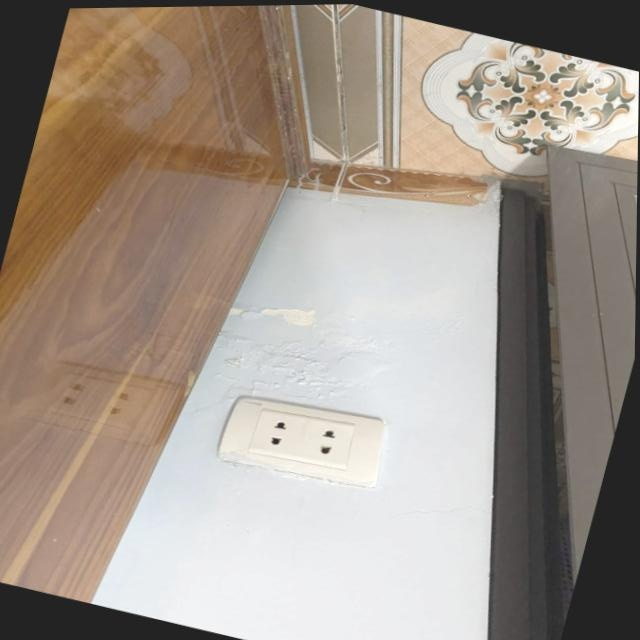outlet: (215, 381, 395, 500)
